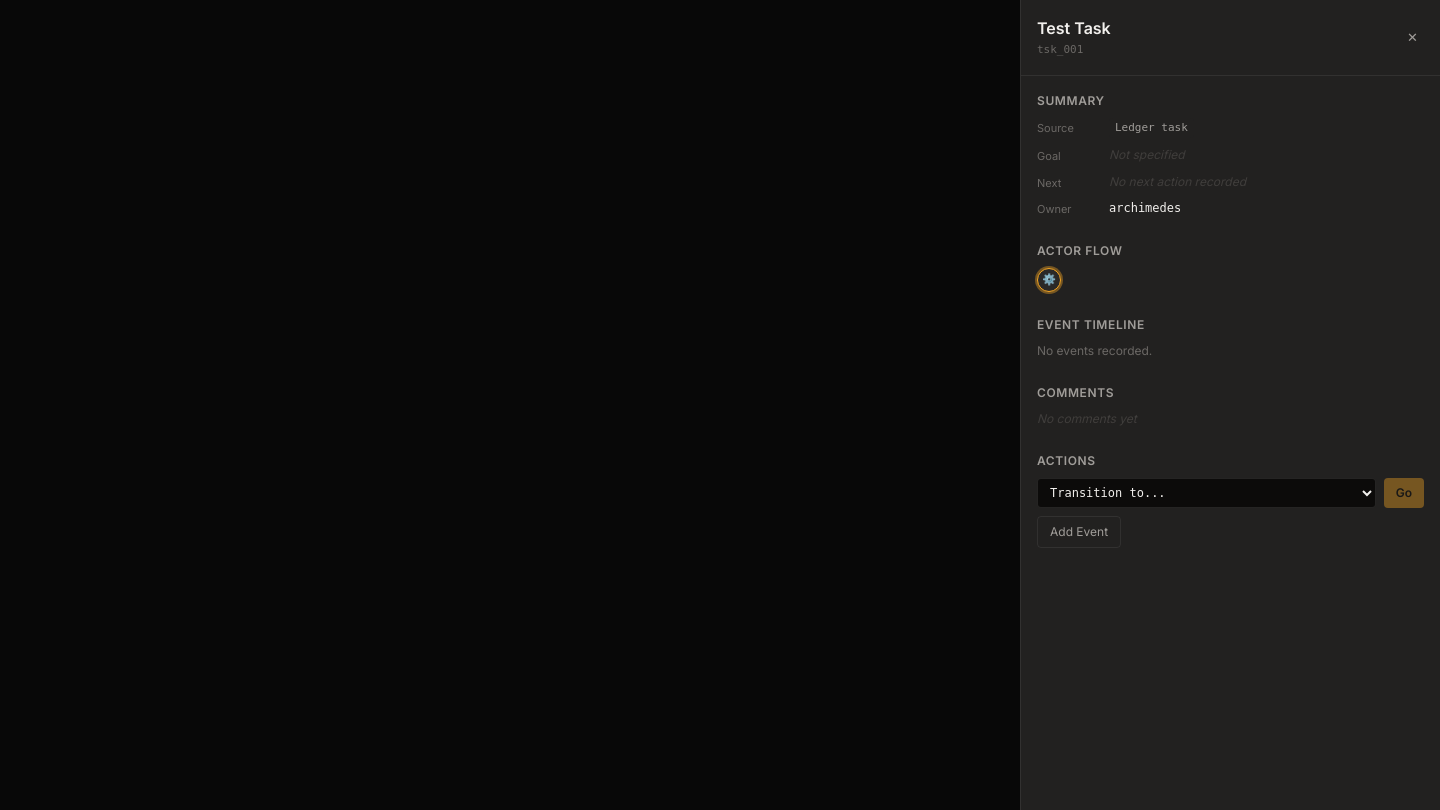
Test: TaskDetail Add Event › expands textarea on Add Event click
What coordinates should you click on to do the following:
click the button "Add Event"
I would click on:
 (1079, 532)
Its box is [1037, 516, 1121, 548].
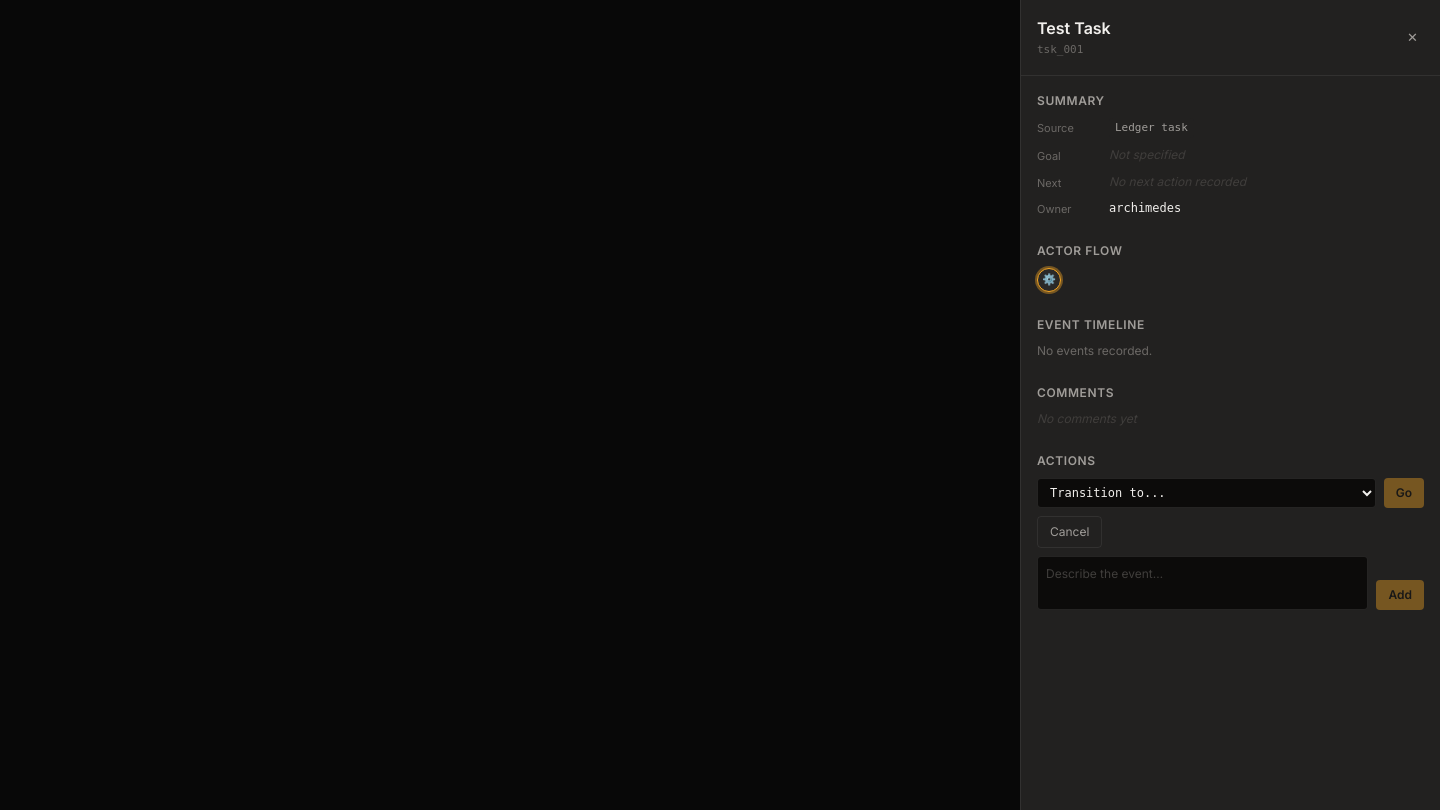
expect the button "Add" is shown: met, box [1376, 580, 1424, 610]
expect the text box with placeholder "Describe the event…" is shown: met, box [1037, 556, 1368, 610]
expect the button "Cancel" is shown: met, box [1037, 516, 1102, 548]
